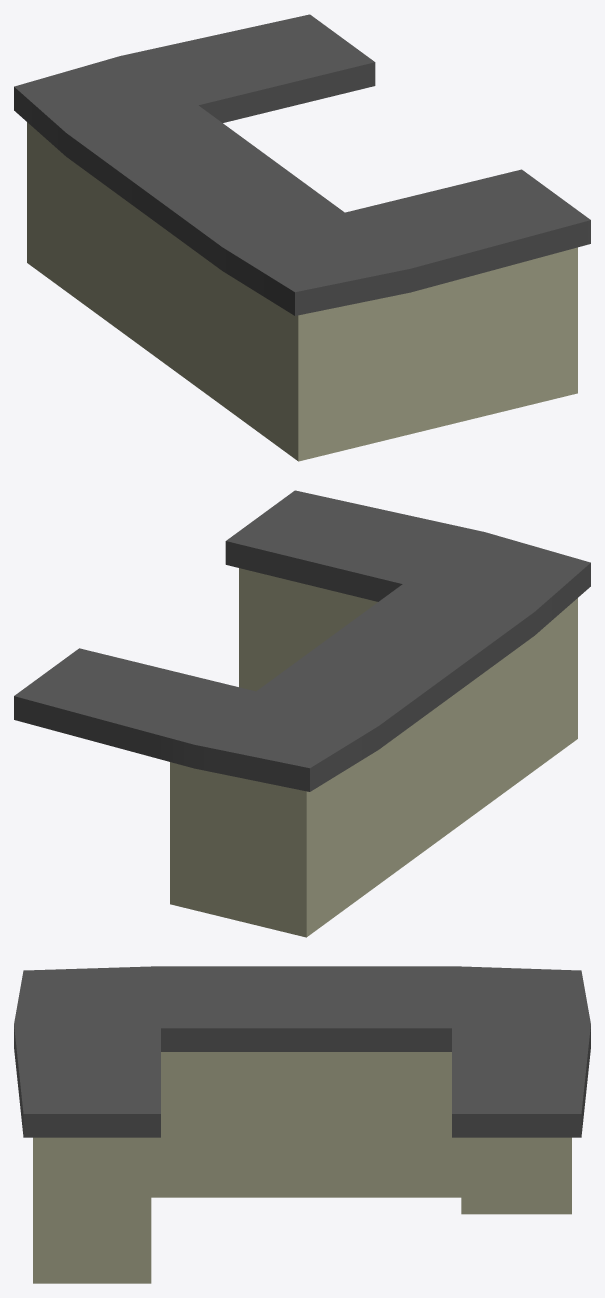
File: Security.fbx
3 views of the same model, one above another, from view 1: azimuth 30°, elevation 25°; view 2: azimuth 150°, elevation 25°; view 3: azimuth 270°, elevation 25° (orthographic).
Visible parts, largest first — view 1: pCube1; view 2: pCube1; view 3: pCube1.
Boxes of the visible parts, x1,y1,x2,y2 form: pCube1: (14, 14, 590, 461); pCube1: (14, 490, 590, 937); pCube1: (14, 966, 590, 1283).
Bounding box in the file's own units: 219 × 120 × 362.
